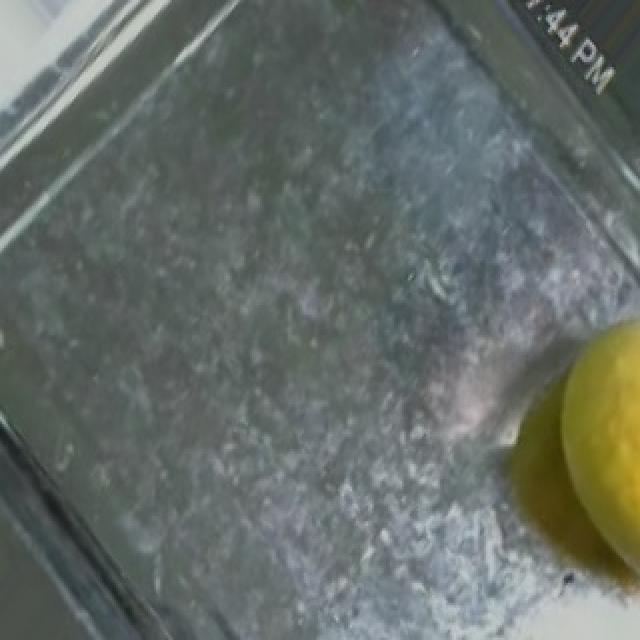fruit: (488, 266, 640, 610)
